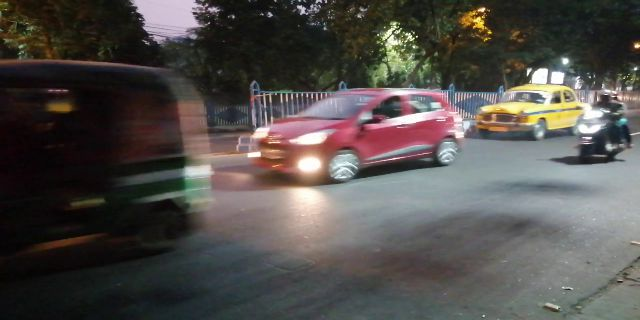Autorickshaw: (6, 60, 198, 247)
Car: (243, 86, 467, 184), (480, 82, 574, 143)
Motorbike: (579, 91, 632, 158)
